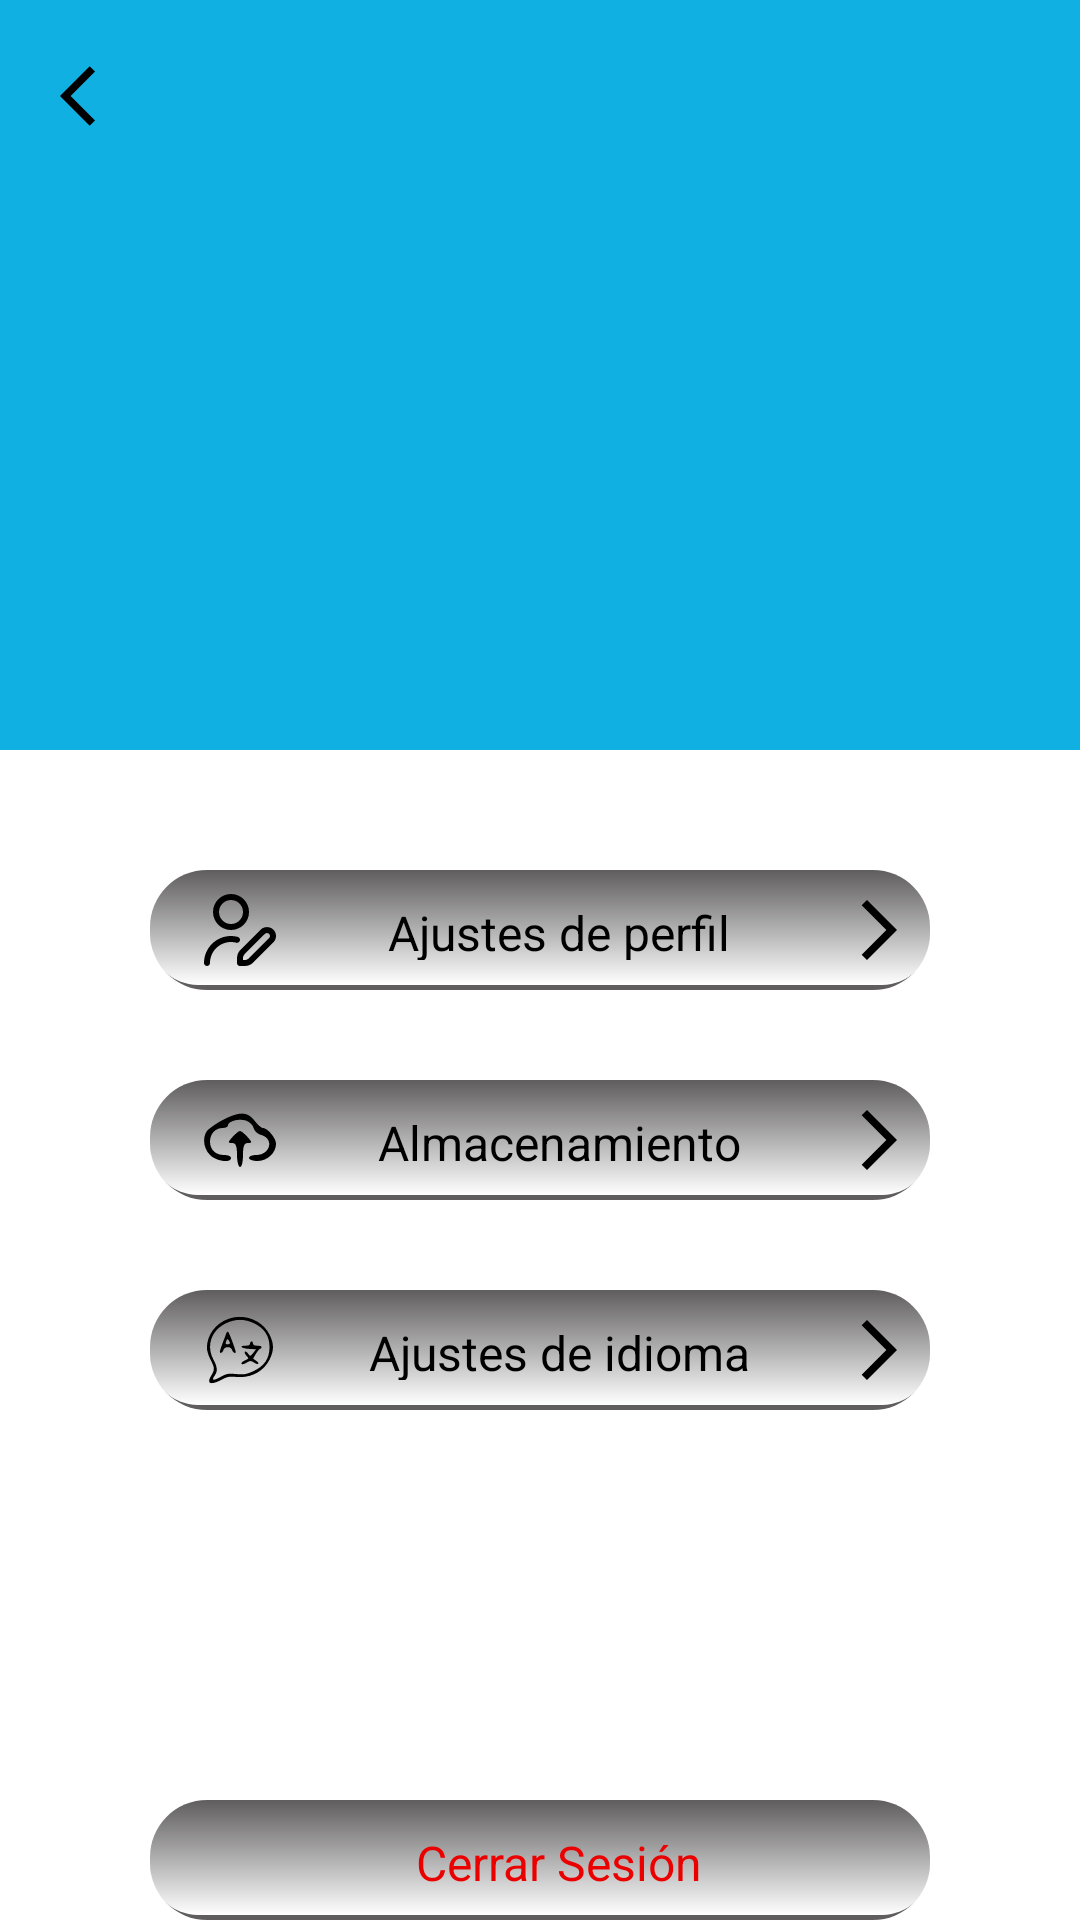

Screen size 1080w x 1920h. Icon name, then its box in pixels as detection(x1, y1, x2, y2):
back: detection(60, 66, 95, 126)
